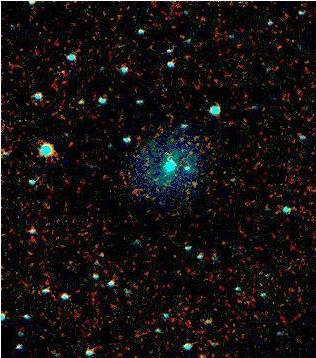star: (180, 165, 210, 195)
